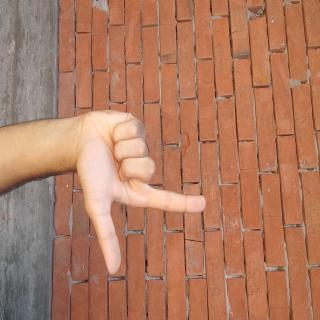LAAM: (71, 147, 208, 320)
